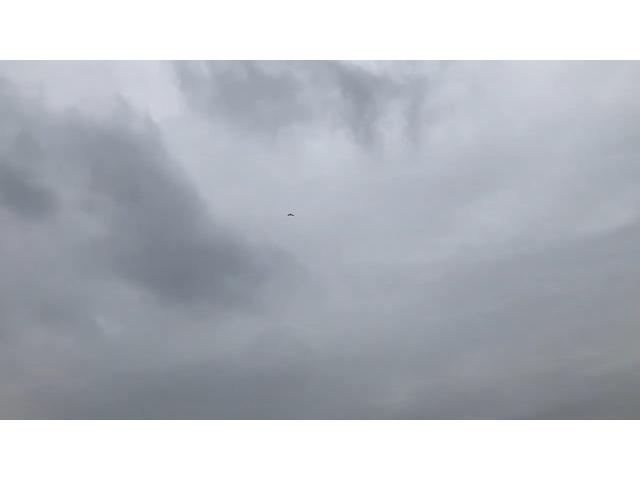Anti-Drone: (276, 210, 304, 220)
